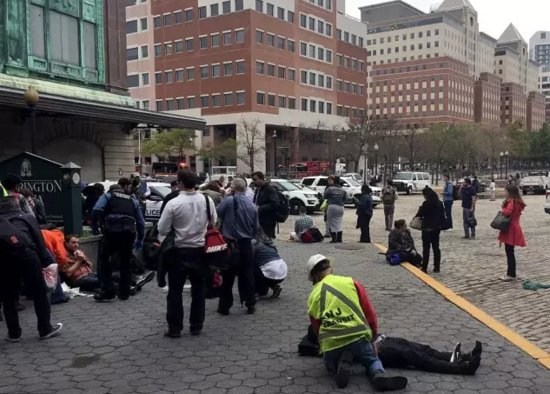10+: (1, 152, 550, 393)
down: (297, 316, 487, 374), (60, 234, 102, 293)
